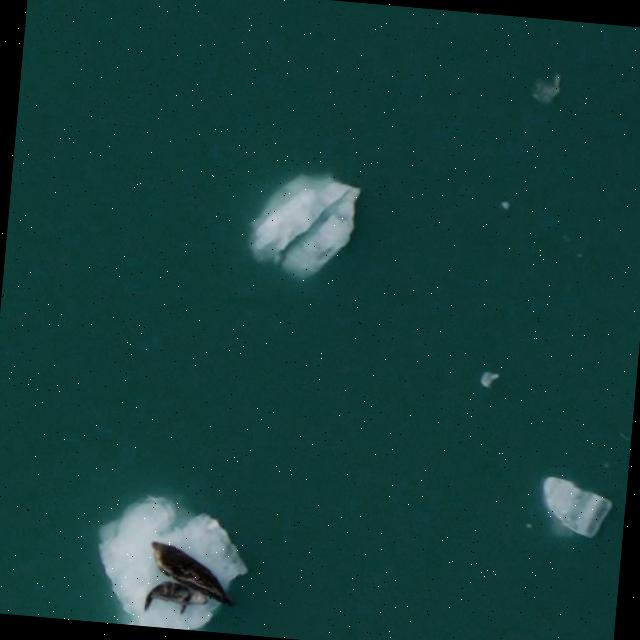seal: (153, 542, 233, 606), (145, 582, 208, 613)
